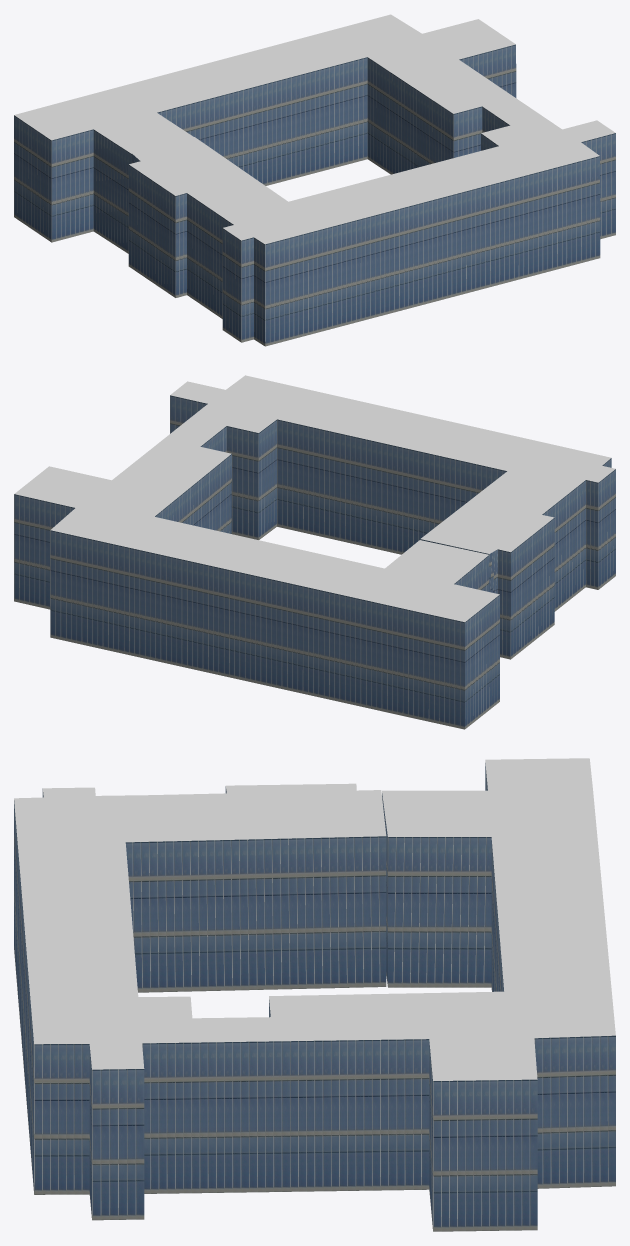
File: siheyuan.fbx
3 renders of one model, top to bottom at view 1: azimuth 30°, elevation 25°; view 2: azimuth 150°, elevation 25°; view 3: azimuth 270°, elevation 25°, orthographic. The views are drawn at different scales.
Visible parts, largest first — view 1: CityEngineMaterial_2_m, CityEngineMaterial_m; view 2: CityEngineMaterial_2_m, CityEngineMaterial_m; view 3: CityEngineMaterial_2_m, CityEngineMaterial_m.
Boxes of the visible parts, bbox=[...] form: CityEngineMaterial_2_m: bbox=[14, 44, 615, 346]; CityEngineMaterial_m: bbox=[14, 14, 615, 244]; CityEngineMaterial_2_m: bbox=[14, 395, 615, 729]; CityEngineMaterial_m: bbox=[14, 375, 615, 622]; CityEngineMaterial_2_m: bbox=[14, 763, 615, 1231]; CityEngineMaterial_m: bbox=[14, 758, 615, 1080].
Size of the model in its own units: 92 by 20.31 by 72.46.
